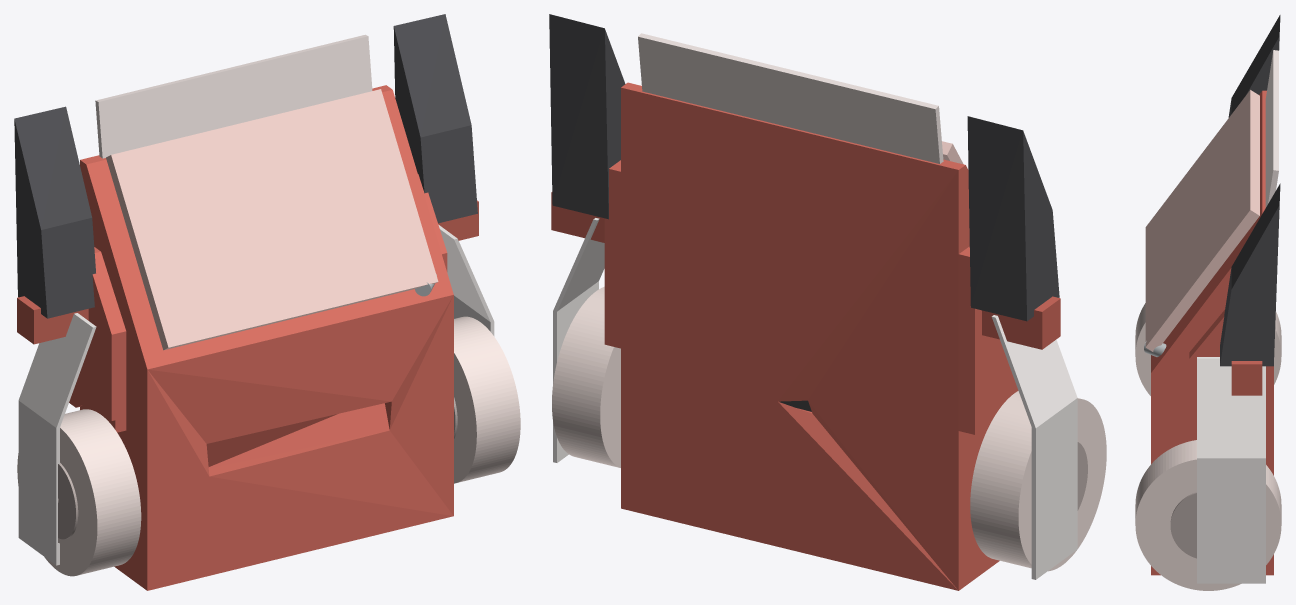
The model's file is ant_ratchet.glb.
The picture shows the model from 3 angles, left to right: view 1: azimuth 30°, elevation 25°; view 2: azimuth 150°, elevation 25°; view 3: azimuth 270°, elevation 25°; orthographic projection. The views are drawn at different scales.
Visible parts, largest first — view 1: chassis, lifter, lifter_lip, fork_0, fork_1, wheel_r0, wheel_guard_r, wheel_l0, skirt_r, wheel_guard_l, dt_mount_fork_0, dt_hub_wheel_r0 (+1 smaller); view 2: chassis, lifter_lip, fork_0, fork_1, wheel_r0, wheel_guard_r, wheel_l0, skirt_r, wheel_guard_l, skirt_l, dt_mount_fork_0, dt_mount_fork_1; view 3: lifter, wheel_guard_l, chassis, wheel_l0, fork_1, skirt_l, lifter_lip, fork_0, wheel_r0, dt_hub_wheel_l0, dt_mount_fork_1.
Boxes of the visible parts, x1,y1,x2,y2 form: chassis: (80, 85, 453, 590); lifter: (106, 89, 438, 350); lifter_lip: (95, 34, 372, 158); fork_0: (14, 106, 95, 318); fork_1: (393, 14, 477, 223); wheel_r0: (17, 409, 141, 576); wheel_guard_r: (18, 313, 96, 565); wheel_l0: (454, 316, 520, 483); skirt_r: (69, 247, 126, 432); wheel_guard_l: (438, 224, 494, 336); dt_mount_fork_0: (17, 296, 88, 344); dt_hub_wheel_r0: (58, 463, 78, 539); chassis: (621, 82, 999, 590); lifter_lip: (638, 33, 943, 163); fork_0: (967, 116, 1059, 321); fork_1: (549, 14, 625, 219); wheel_r0: (970, 391, 1106, 571); wheel_guard_r: (991, 315, 1077, 579); wheel_l0: (552, 286, 620, 467); skirt_r: (958, 246, 1018, 434); wheel_guard_l: (553, 218, 604, 462); skirt_l: (604, 160, 620, 348); dt_mount_fork_0: (982, 296, 1060, 349); dt_mount_fork_1: (551, 192, 604, 242); lifter: (1145, 90, 1259, 351); wheel_guard_l: (1197, 357, 1265, 583); chassis: (1151, 90, 1273, 575); wheel_l0: (1135, 440, 1281, 590); fork_1: (1220, 183, 1280, 366); skirt_l: (1189, 310, 1273, 449); lifter_lip: (1265, 50, 1278, 207); fork_0: (1228, 15, 1280, 117); wheel_r0: (1135, 303, 1281, 395); dt_hub_wheel_l0: (1170, 492, 1196, 558); dt_mount_fork_1: (1231, 361, 1262, 395).
Bounding box in the file's own units: 122 × 114 × 38.
